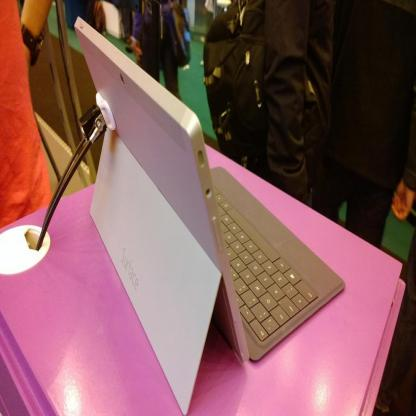board: (73, 16, 345, 416)
